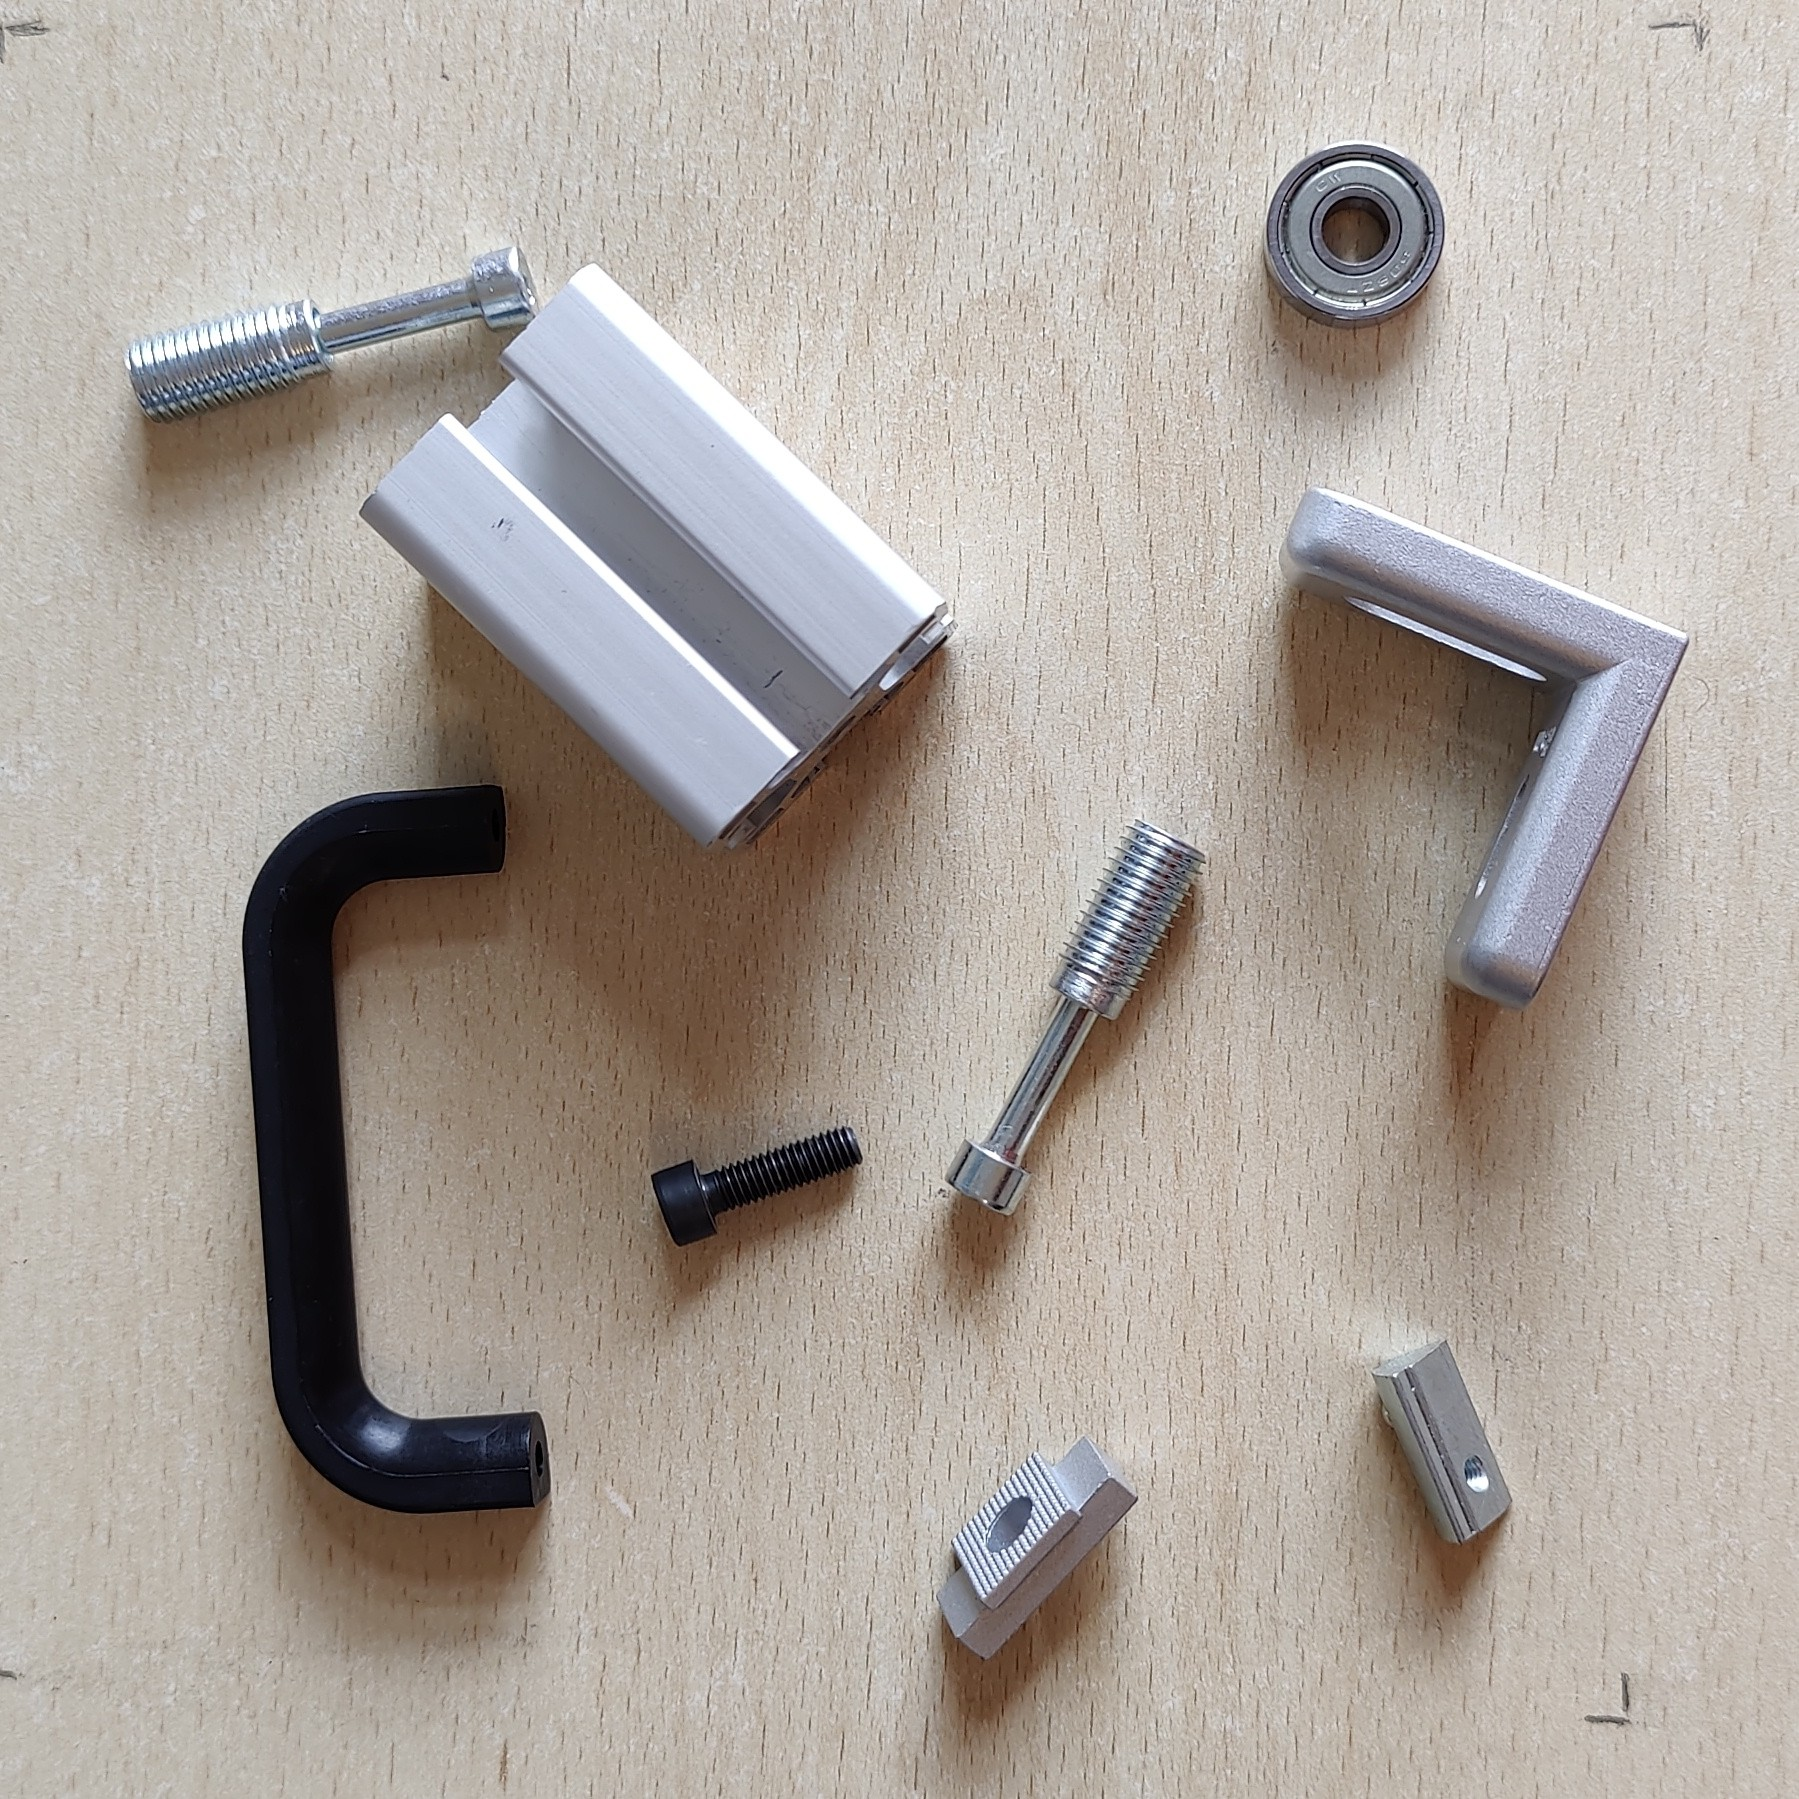Aluminium Extension: (357, 260, 960, 857)
Ball Bearing: (1260, 138, 1450, 331)
Multiwinkel: (1278, 481, 1692, 1015)
Pull Handle: (239, 781, 555, 1517)
Shoulder Socket Head Cap Screw: (942, 814, 1208, 1217), (124, 242, 539, 427)
Socket Head Cap Screw: (649, 1115, 868, 1249)
T Nut Square: (934, 1428, 1142, 1662)
T Spring Nut: (1369, 1338, 1516, 1554)
